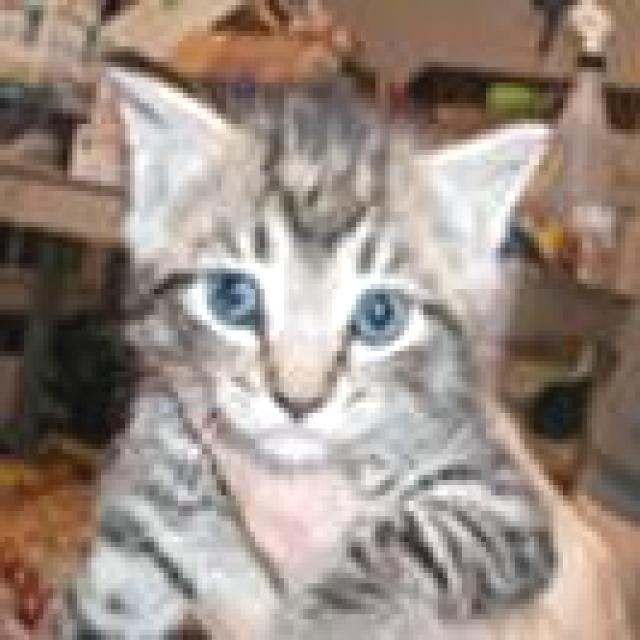Kucing: (0, 53, 611, 640)
